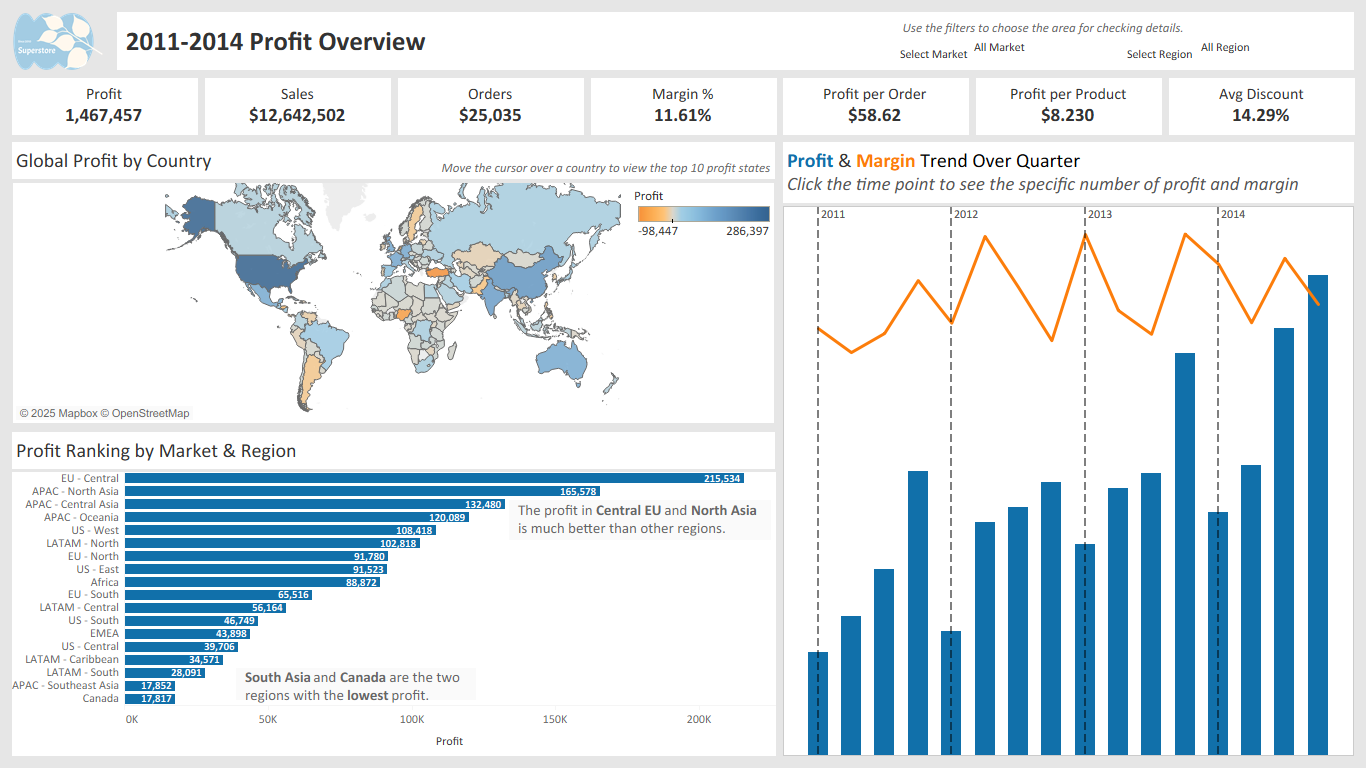

The page's visual inventory and layout, read from the dashboard file:
{"tool":"tableau","page":{"name":"Overview Dashboard","canvas":[1366,768],"ordinal":1},"visuals":[{"type":"image","param":"Image/superstore-high-resolution-logo-transparent.png","box":[8,8,105,66]},{"type":"title","box":[113,8,1245,66]},{"type":"text","box":[896,19,455,17.4]},{"type":"parameter","param":"[Parameters].[Market Parameter]","box":[896,36.4,227.2,36.5]},{"type":"parameter","param":"[Parameters].[Market Region Parameter]","box":[1123.2,36.4,227.8,36.5]},{"type":"worksheet","title":"#Profit","mark":"Automatic","box":[8,74,192.9,64]},{"type":"worksheet","title":"#Sales","mark":"Automatic","box":[200.9,74,192.9,64]},{"type":"worksheet","title":"#Orders","mark":"Automatic","box":[393.7,74,192.9,64]},{"type":"worksheet","title":"Margin %","mark":"Automatic","box":[586.6,74,192.9,64]},{"type":"worksheet","title":"Profit per Order","mark":"Automatic","box":[779.4,74,192.9,64]},{"type":"worksheet","title":"Profit per Product","mark":"Automatic","box":[972.3,74,192.9,64]},{"type":"worksheet","title":"Avg Discount","mark":"Automatic","box":[1165.1,74,192.9,64]},{"type":"worksheet","title":"Global Profit","mark":"Automatic","box":[8,138,771,290]},{"type":"worksheet","title":"2011-2014 Trend","mark":"Bar","rows":["Profit","Calculation_5948692215613968385"],"cols":["Order Date"],"box":[779,138,579,622]},{"type":"text","box":[439,148,342,40]},{"type":"legend","title":"Global Profit","param":"[federated.1h3h0et0gxsiux1d21vw91ftqfph].[sum:Profit:qk]","box":[634,184,140,55]},{"type":"worksheet","title":"Global Profit Ranking","mark":"Bar","rows":["Calculation_5468777380217528321"],"cols":["Profit"],"box":[8,428,771,332]}]}

Visuals, with their boxes in screenshot pixels (x1, y1, x2, y2), scaled from the page's 1366x768 canvas onto the 1366x768 screenshot:
image: bbox(8, 8, 113, 74)
title: bbox(113, 8, 1358, 74)
text: bbox(896, 19, 1351, 36)
parameter: bbox(896, 36, 1123, 73)
parameter: bbox(1123, 36, 1351, 73)
"#Profit" worksheet: bbox(8, 74, 201, 138)
"#Sales" worksheet: bbox(201, 74, 394, 138)
"#Orders" worksheet: bbox(394, 74, 587, 138)
"Margin %" worksheet: bbox(587, 74, 780, 138)
"Profit per Order" worksheet: bbox(779, 74, 972, 138)
"Profit per Product" worksheet: bbox(972, 74, 1165, 138)
"Avg Discount" worksheet: bbox(1165, 74, 1358, 138)
"Global Profit" worksheet: bbox(8, 138, 779, 428)
"2011-2014 Trend" worksheet (Bar marks): bbox(779, 138, 1358, 760)
text: bbox(439, 148, 781, 188)
"Global Profit" legend: bbox(634, 184, 774, 239)
"Global Profit Ranking" worksheet (Bar marks): bbox(8, 428, 779, 760)
